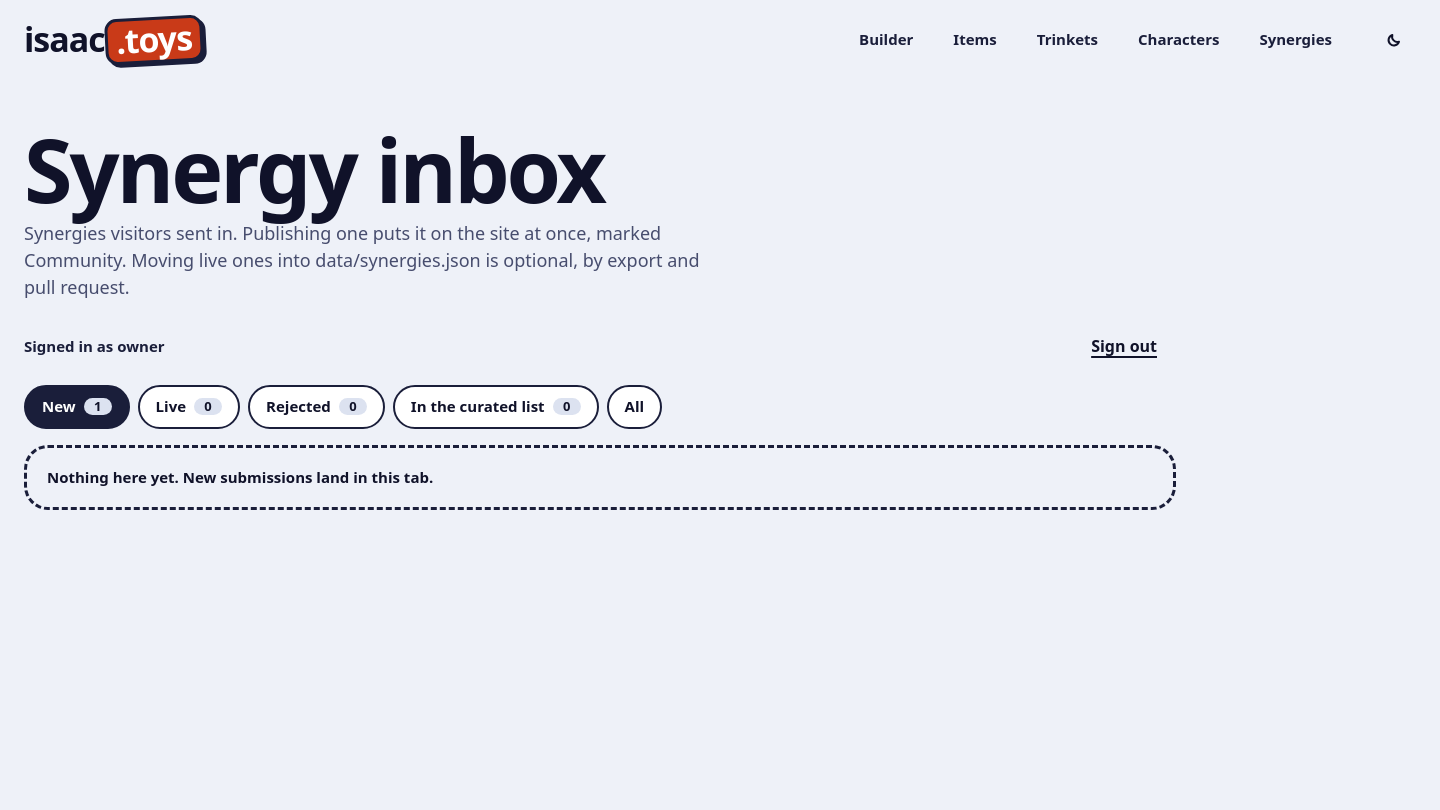
admin inbox › signs out
This screenshot has width=1440, height=810.
Expected: the heading "Synergy inbox" is shown, [24, 109, 604, 229]
Click the button "Sign out". click: coordinates (1124, 347)
box: [1072, 325, 1176, 369]
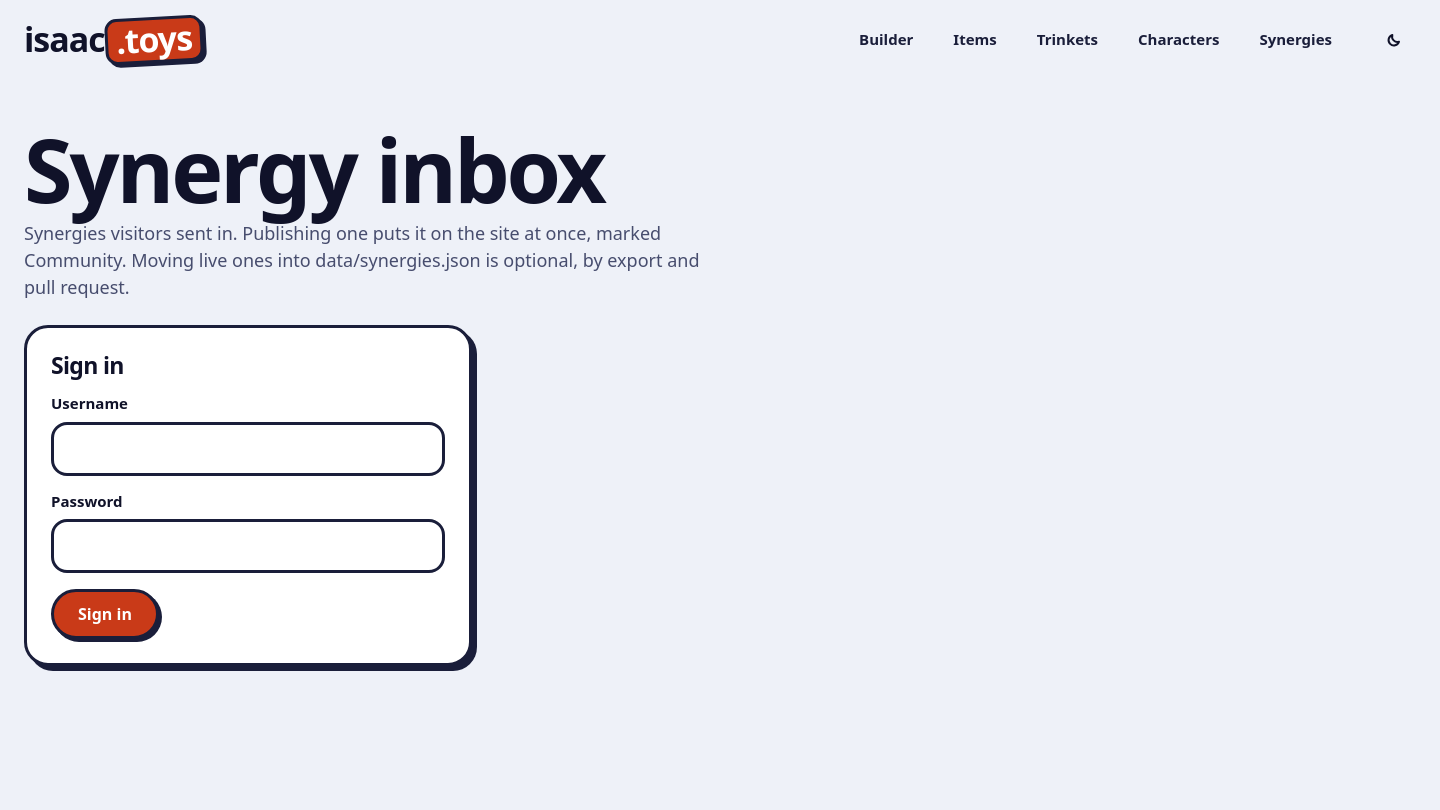
Expected: the form "Sign in" is shown, [24, 325, 472, 666]
